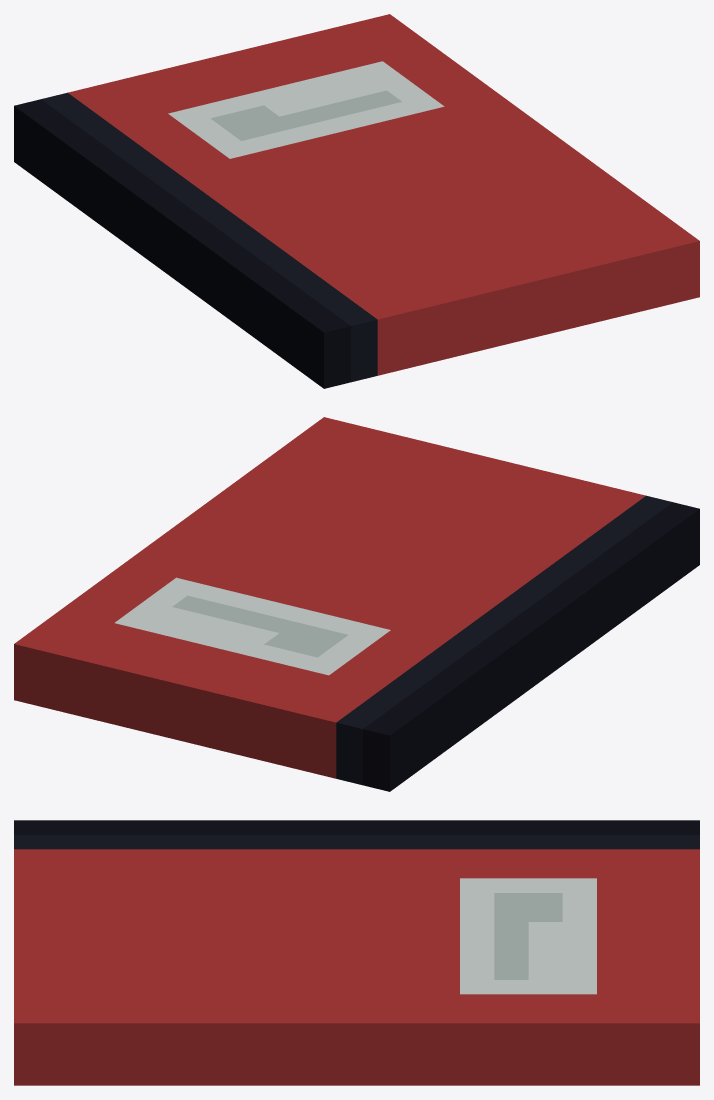
File: Folder0.obj
3 renders of one model, top to bottom at view 1: azimuth 30°, elevation 25°; view 2: azimuth 150°, elevation 25°; view 3: azimuth 270°, elevation 25°, orthographic. The views are drawn at different scales.
Bounding box in the file's own units: 1.4 × 0.2 × 2.
1 material, 1 textured.
